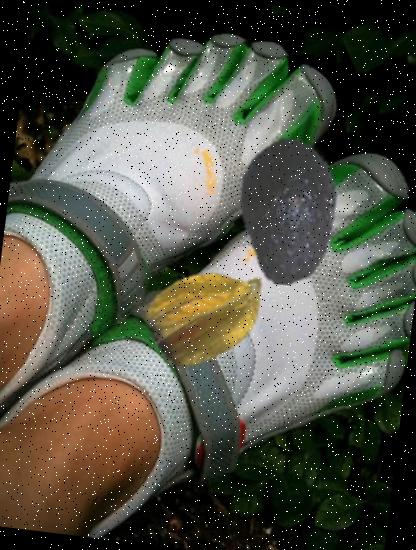Avocado: (206, 130, 368, 294)
Physalis: (140, 242, 278, 382)
